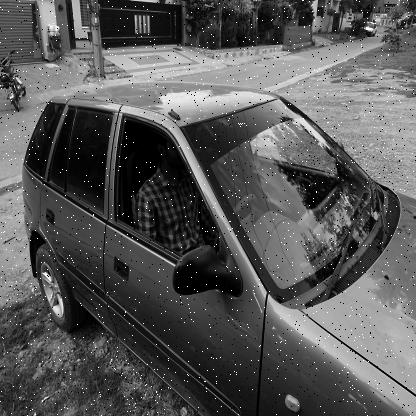no_seatbelt: (138, 143, 192, 241)
